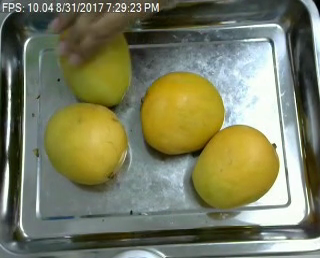Mango: (192, 123, 277, 211), (42, 102, 126, 186), (141, 72, 222, 153), (55, 22, 131, 103)
